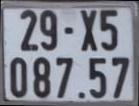-: (64, 26, 74, 35)
.: (77, 92, 85, 99)
0: (10, 57, 28, 99)
2: (20, 10, 39, 52)
5: (100, 9, 119, 52), (89, 57, 107, 99)
7: (111, 56, 131, 99), (56, 56, 73, 98)
8: (33, 57, 51, 99)
9: (40, 9, 57, 51)
X: (80, 9, 99, 53)
